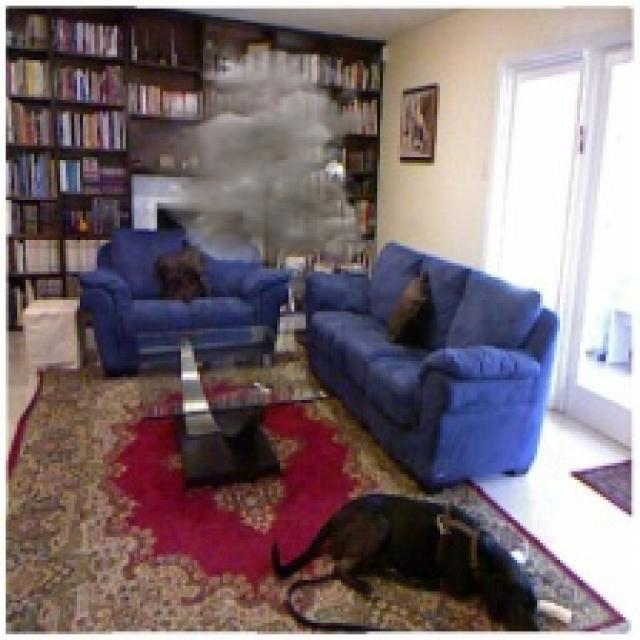Smoke: (134, 48, 380, 274)
